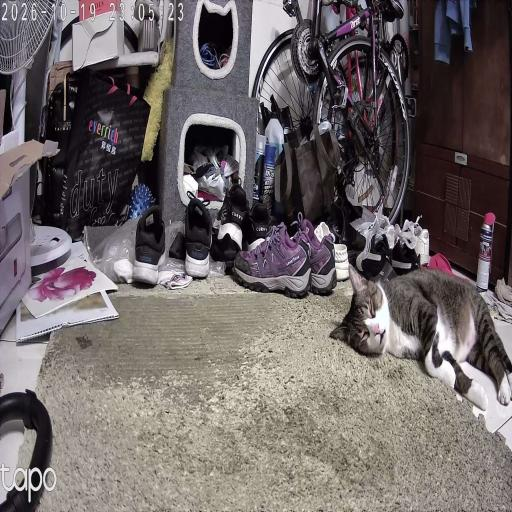cat: (342, 270, 494, 370)
